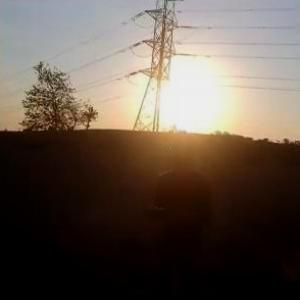follow: (147, 132, 214, 299)
